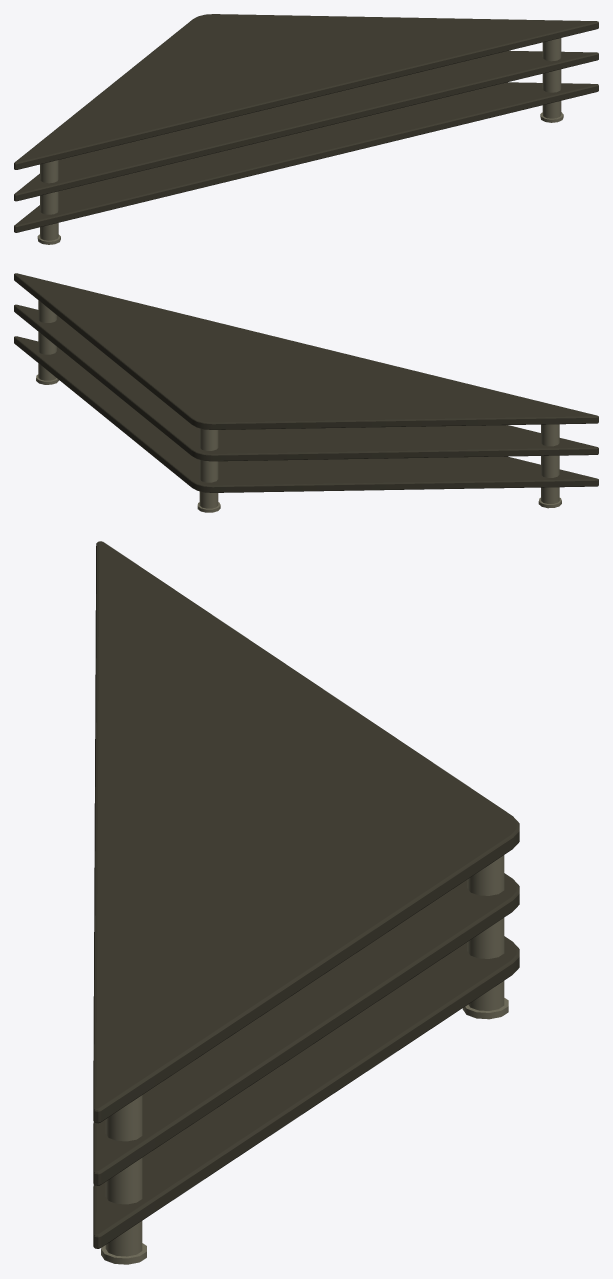
Rendered from Cabinet.obj.
3 renders of one model, top to bottom at view 1: azimuth 30°, elevation 25°; view 2: azimuth 150°, elevation 25°; view 3: azimuth 270°, elevation 25°, orthographic. The views are drawn at different scales.
Parts seen in each view (by area): view 1: Stand_TV:Mesh; view 2: Stand_TV:Mesh; view 3: Stand_TV:Mesh.
Boxes of the visible parts, x1,y1,x2,y2 form: Stand_TV:Mesh: (14, 14, 598, 244); Stand_TV:Mesh: (14, 273, 598, 512); Stand_TV:Mesh: (93, 541, 519, 1264).
Bounding box in the file's own units: 4.99 × 0.7513 × 1.58.
2 materials, 2 textured.
